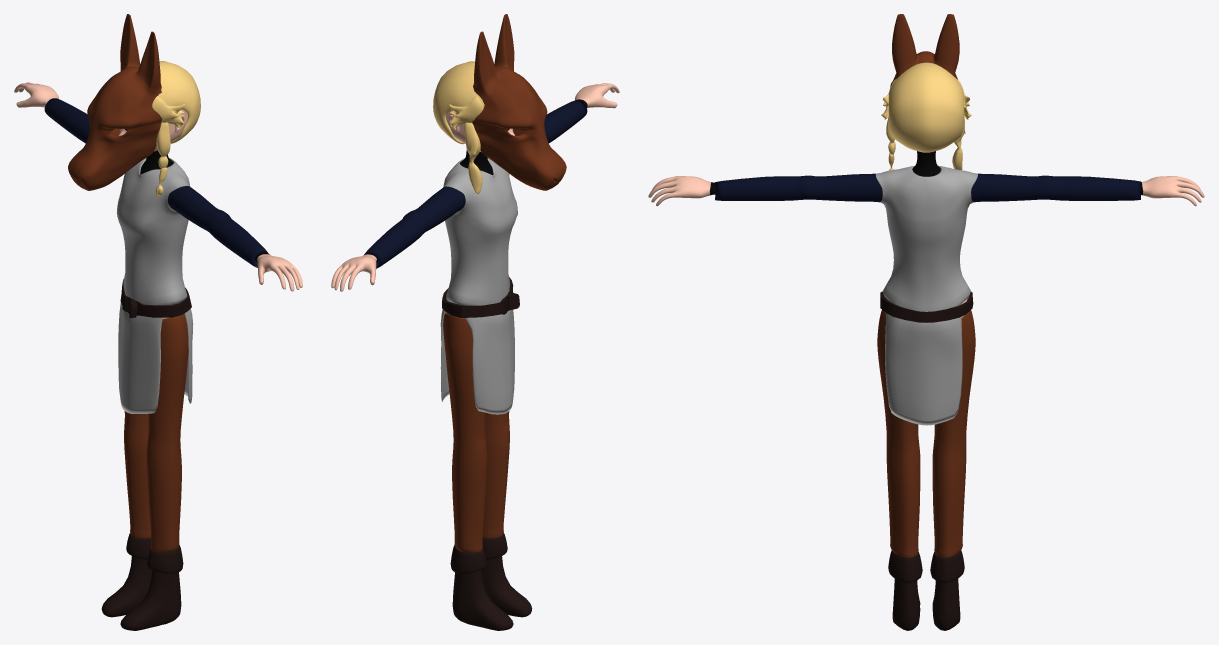
The model's file is peaudanesanspo.fbx.
The picture shows the model from 3 angles, left to right: view 1: azimuth 30°, elevation 25°; view 2: azimuth 150°, elevation 25°; view 3: azimuth 270°, elevation 25°; orthographic projection.
Parts seen in each view (by area): view 1: MasqueAne001; view 2: MasqueAne001; view 3: MasqueAne001.
Boxes of the visible parts, box(x1,y1,x2,y2) form: MasqueAne001: box(14, 14, 302, 630); MasqueAne001: box(331, 14, 619, 630); MasqueAne001: box(648, 14, 1204, 630).
Bounding box in the file's own units: 4.57 × 20.83 × 17.36.
